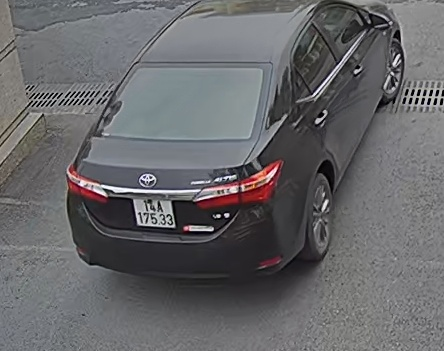vehicle plate: (132, 193, 175, 228)
